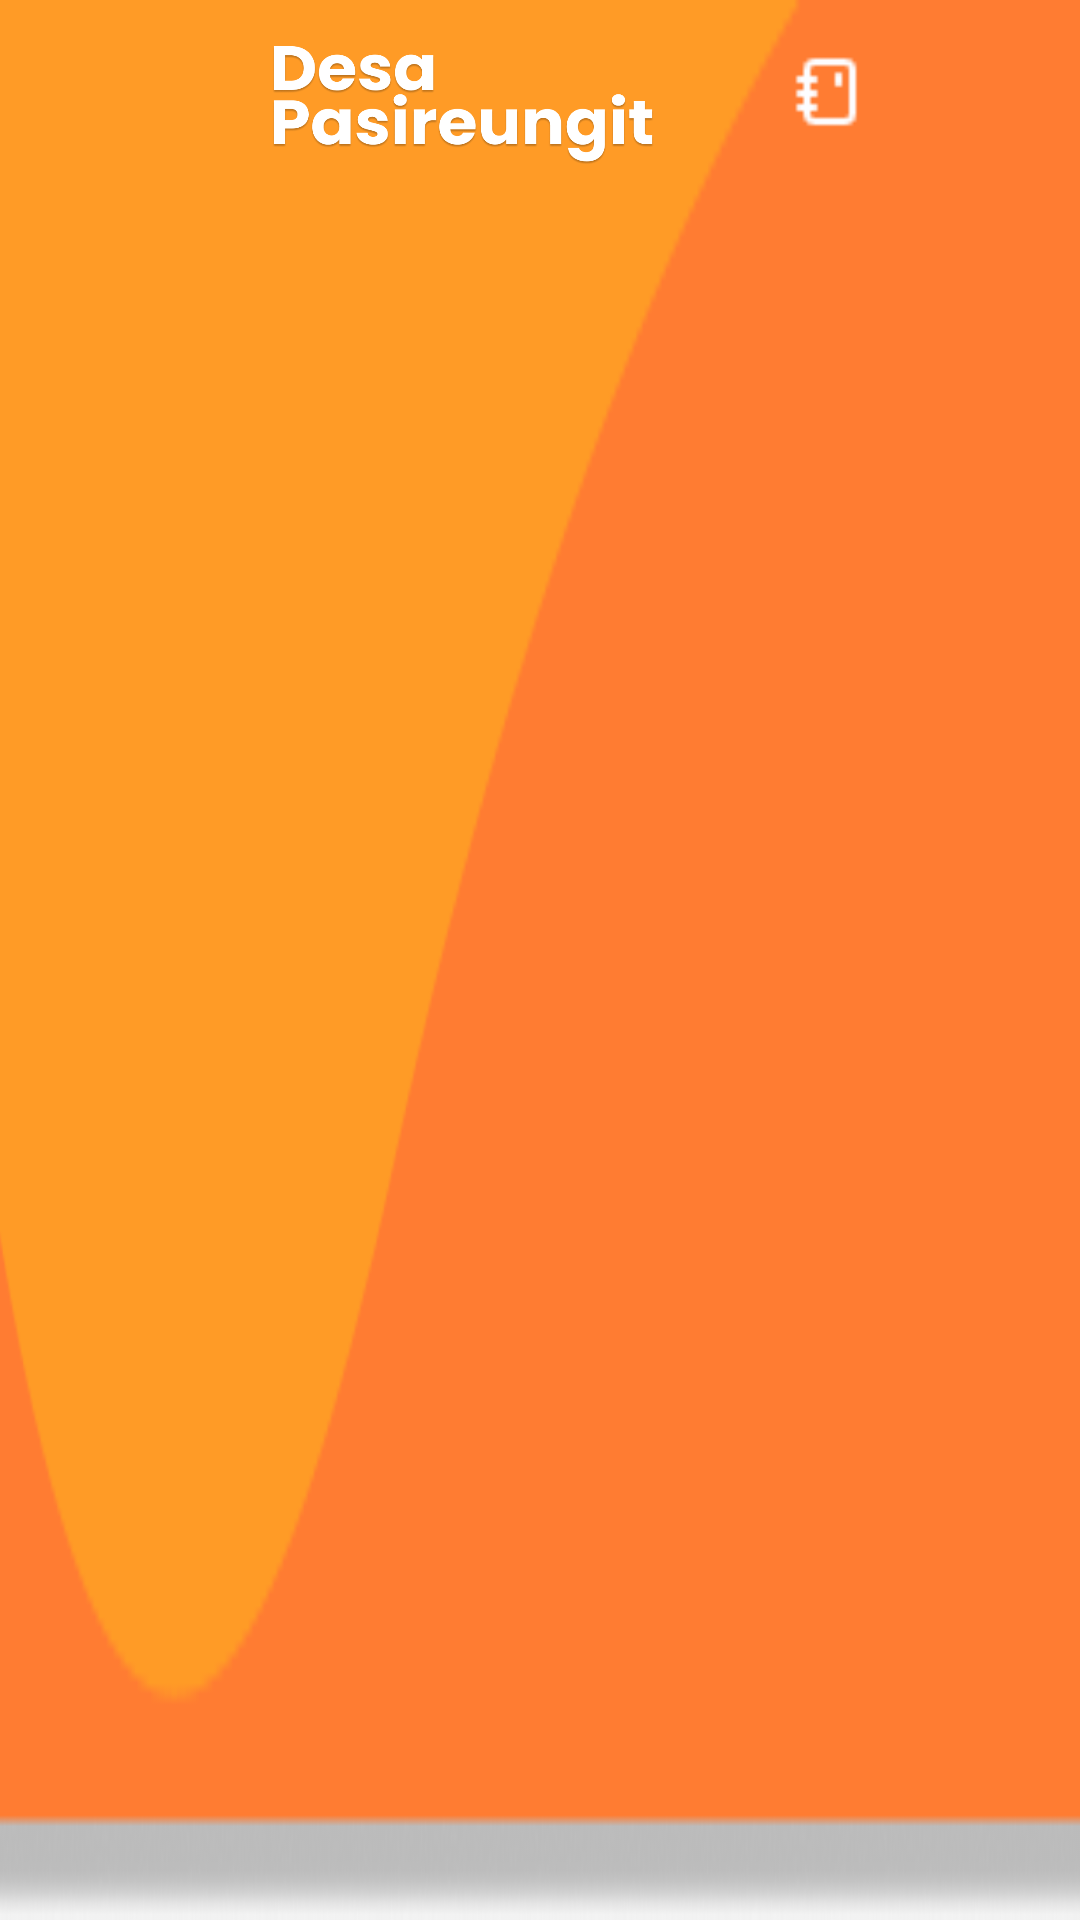

Icons on this 1080×1920 Android screen, each with its box as [left=x1, top=y1, right=x2, bottom=y2]:
notebook: [left=795, top=57, right=857, bottom=126]
